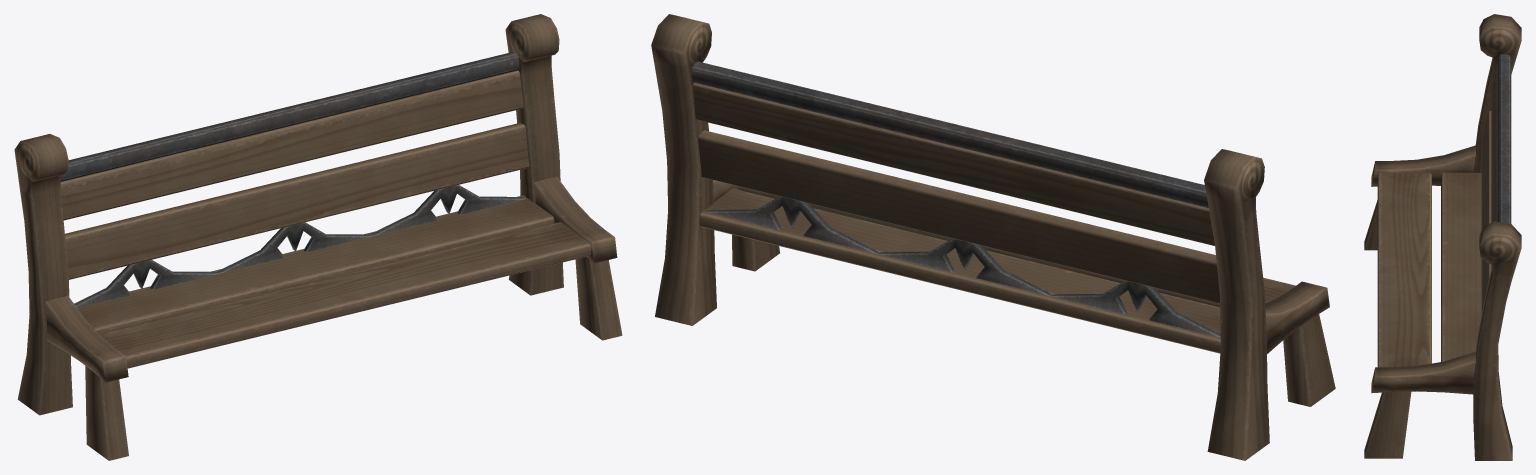
Rendered from bench_wood.fbx.
3 views of the same model, side by side, from view 1: azimuth 30°, elevation 25°; view 2: azimuth 150°, elevation 25°; view 3: azimuth 270°, elevation 25° (orthographic). The views are drawn at different scales.
Visible parts, largest first — view 1: bench_wood; view 2: bench_wood; view 3: bench_wood.
Part boxes in pixels (left/top/right/bottom): bench_wood: left=14, top=14, right=622, bottom=460; bench_wood: left=651, top=14, right=1335, bottom=460; bench_wood: left=1364, top=14, right=1521, bottom=460.
Bounding box in the file's own units: 279 × 133 × 83.78.
